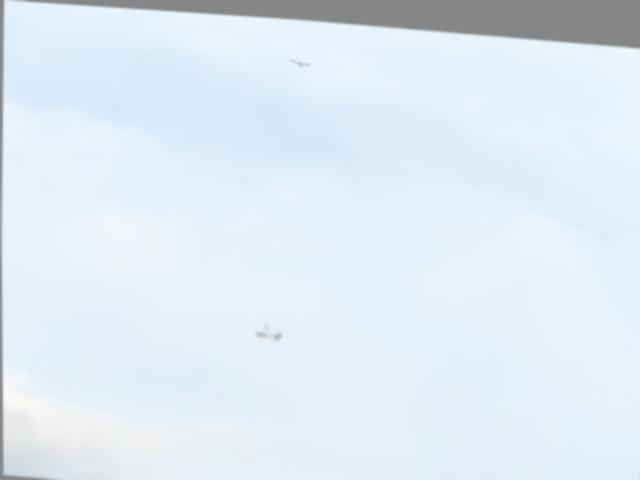uav: (249, 310, 285, 346), (284, 45, 315, 71)
